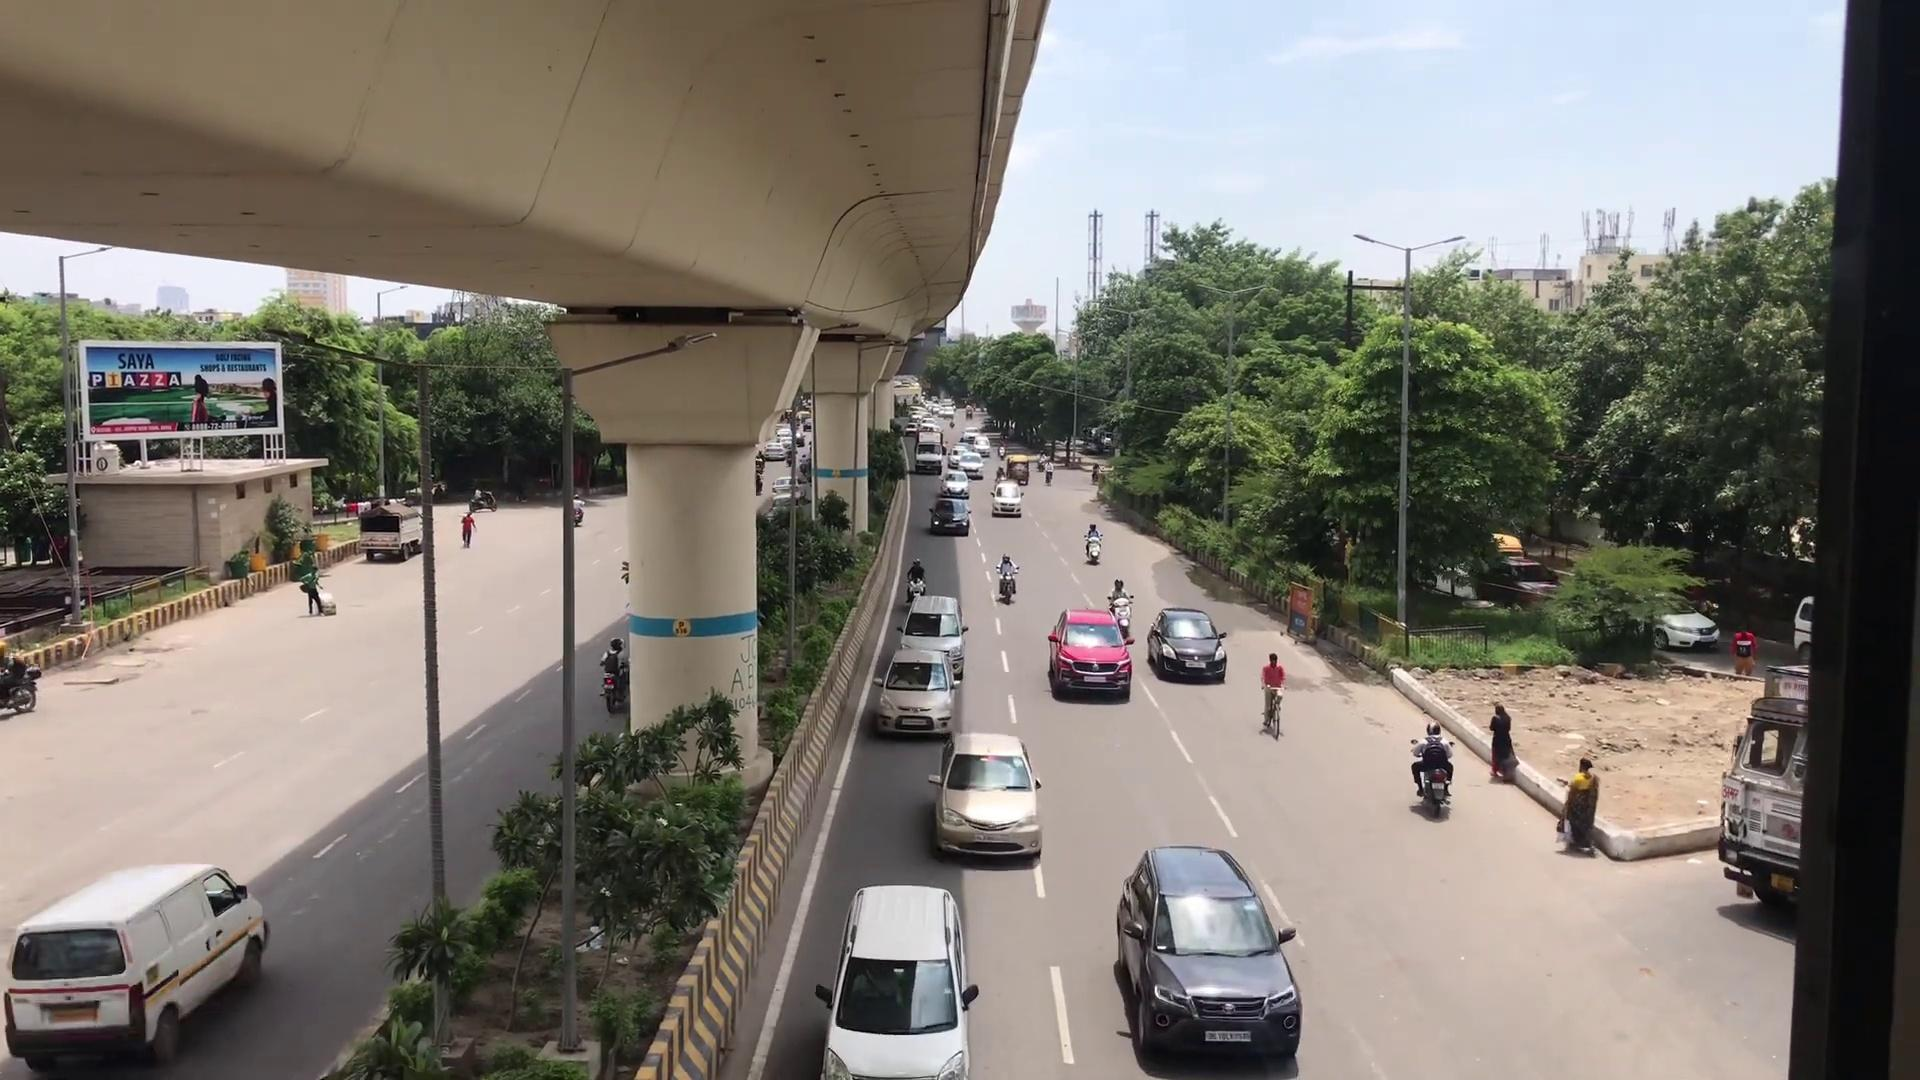Bike: (1410, 717, 1458, 823), (1255, 649, 1290, 744), (1108, 574, 1133, 640), (996, 546, 1018, 605), (1080, 522, 1106, 563)
Car: (1114, 837, 1302, 1072), (822, 880, 975, 1079), (930, 729, 1042, 862)
